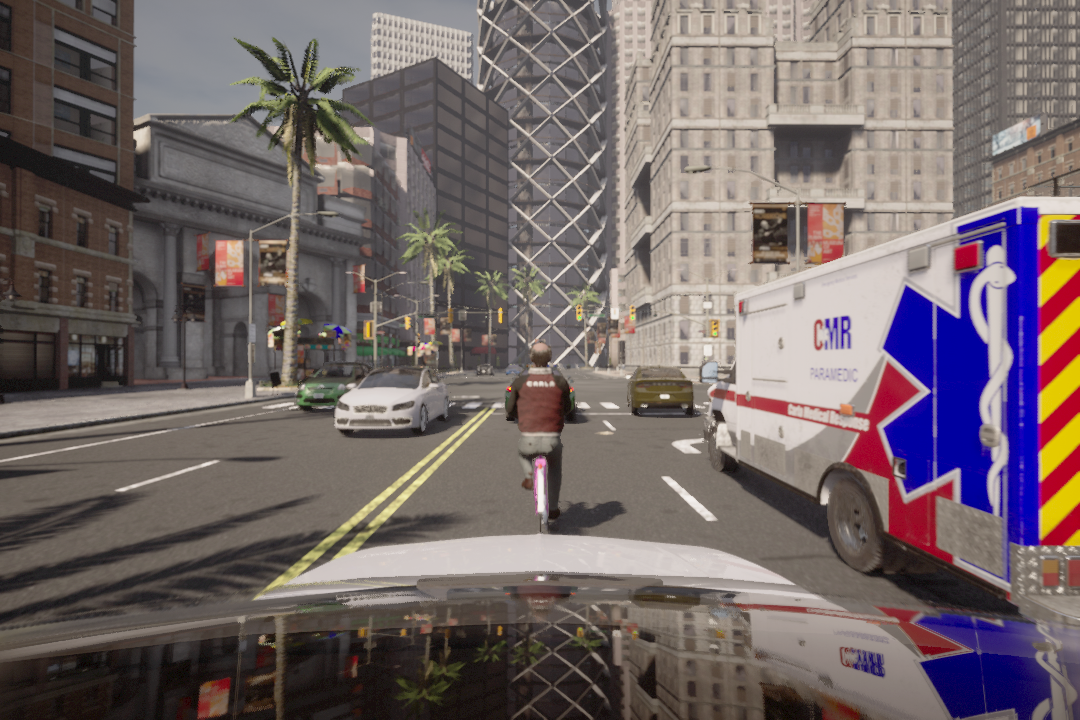TrafficLight: (628, 305, 637, 322), (710, 320, 718, 339), (575, 304, 582, 321)
walkside: (259, 395, 717, 413)
